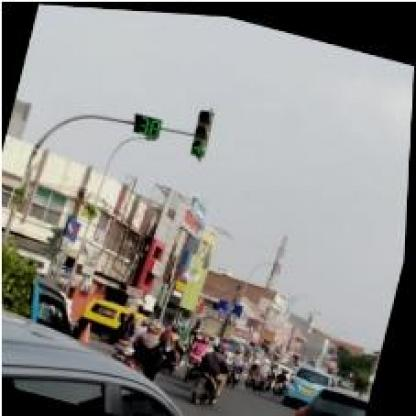green: (190, 103, 217, 154)
